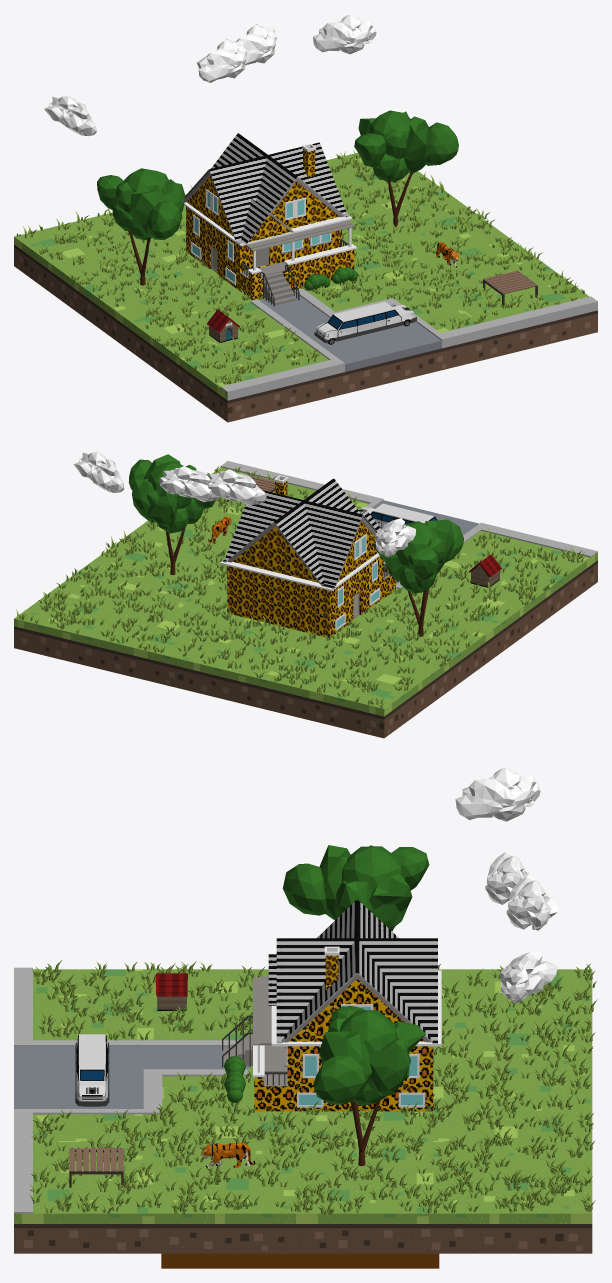
3 views of the same model, one above another, from view 1: azimuth 30°, elevation 25°; view 2: azimuth 150°, elevation 25°; view 3: azimuth 270°, elevation 25° (orthographic). The views are drawn at different scales.
Parts seen in each view (by area): view 1: Cube.006, Cube.637, Circle.012_Grass_0.192, Cube.007, tree, tree.001, VEHICLES_LIMOUSINE, Cube.009, OBJRANDOM_DOGHOUSE; view 2: Cube.006, Cube.637, Circle.012_Grass_0.192, Cube.007, tree.001, tree, VEHICLES_LIMOUSINE, OBJRANDOM_DOGHOUSE; view 3: Cube.006, Circle.012_Grass_0.192, Cube.637, tree, Cube.007, tree.001, UNDERGROUND_ART_PIECE_VAN_GOGH, VEHICLES_LIMOUSINE, Cube.009, OBJRANDOM_DOGHOUSE, ANIMAL_TIGRE.
Boxes of the visible parts, x1=… form: Cube.006: x1=14, y1=152, x2=597, y2=422; Cube.637: x1=184, y1=133, x2=356, y2=306; Circle.012_Grass_0.192: x1=16, y1=150, x2=584, y2=384; Cube.007: x1=44, y1=14, x2=376, y2=136; tree: x1=354, y1=110, x2=458, y2=227; tree.001: x1=97, y1=168, x2=185, y2=285; VEHICLES_LIMOUSINE: x1=314, y1=302, x2=416, y2=344; Cube.009: x1=483, y1=270, x2=537, y2=305; OBJRANDOM_DOGHOUSE: x1=207, y1=309, x2=239, y2=342; Cube.006: x1=14, y1=461, x2=597, y2=738; Cube.637: x1=220, y1=475, x2=395, y2=637; Circle.012_Grass_0.192: x1=16, y1=466, x2=584, y2=708; Cube.007: x1=73, y1=451, x2=415, y2=557; tree.001: x1=372, y1=519, x2=463, y2=636; tree: x1=128, y1=454, x2=215, y2=574; VEHICLES_LIMOUSINE: x1=359, y1=503, x2=437, y2=528; OBJRANDOM_DOGHOUSE: x1=469, y1=554, x2=501, y2=587; Cube.006: x1=14, y1=967, x2=592, y2=1253; Circle.012_Grass_0.192: x1=29, y1=960, x2=597, y2=1214; Cube.637: x1=222, y1=900, x2=441, y2=1111; tree: x1=313, y1=1006, x2=425, y2=1166; Cube.007: x1=455, y1=767, x2=557, y2=1003; tree.001: x1=282, y1=845, x2=429, y2=931; UNDERGROUND_ART_PIECE_VAN_GOGH: x1=161, y1=1253, x2=439, y2=1268; VEHICLES_LIMOUSINE: x1=75, y1=1034, x2=109, y2=1106; Cube.009: x1=69, y1=1147, x2=123, y2=1187; OBJRANDOM_DOGHOUSE: x1=156, y1=973, x2=187, y2=1010; ANIMAL_TIGRE: x1=200, y1=1142, x2=255, y2=1167.
Bounding box in the file's own units: 4071 × 2301 × 4040.
40 materials, 5 textured.
